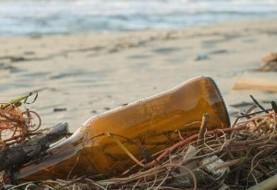glass: (2, 71, 232, 188)
